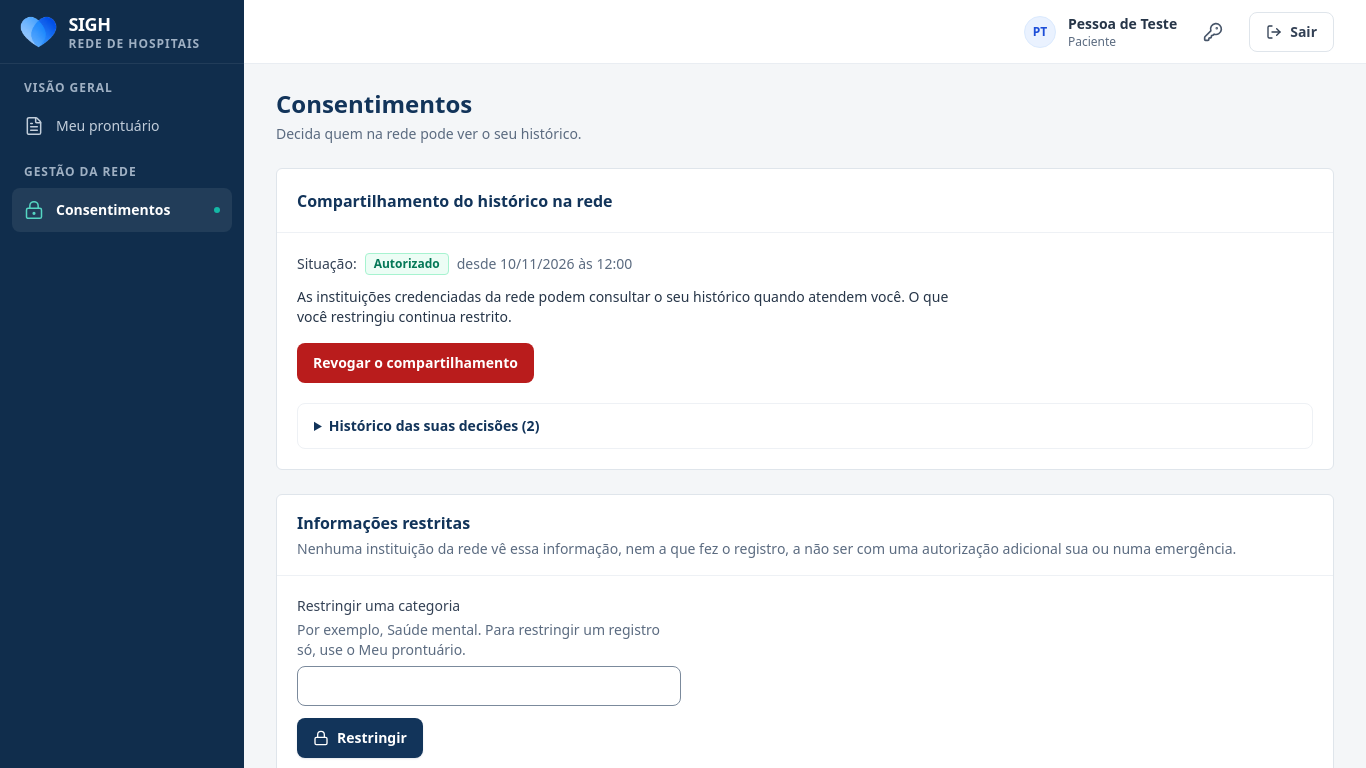
it: FE-05: autorização adicional depende do compartilhamento na rede › revogar o compartilhamento faz o aviso aparecer na hora, sem recarregar a página
Expected: the heading "Consentimentos" is shown, [276,87,472,120]
Click the button "Revogar o compartilhamento" at (416, 363), box [297,343,534,383]
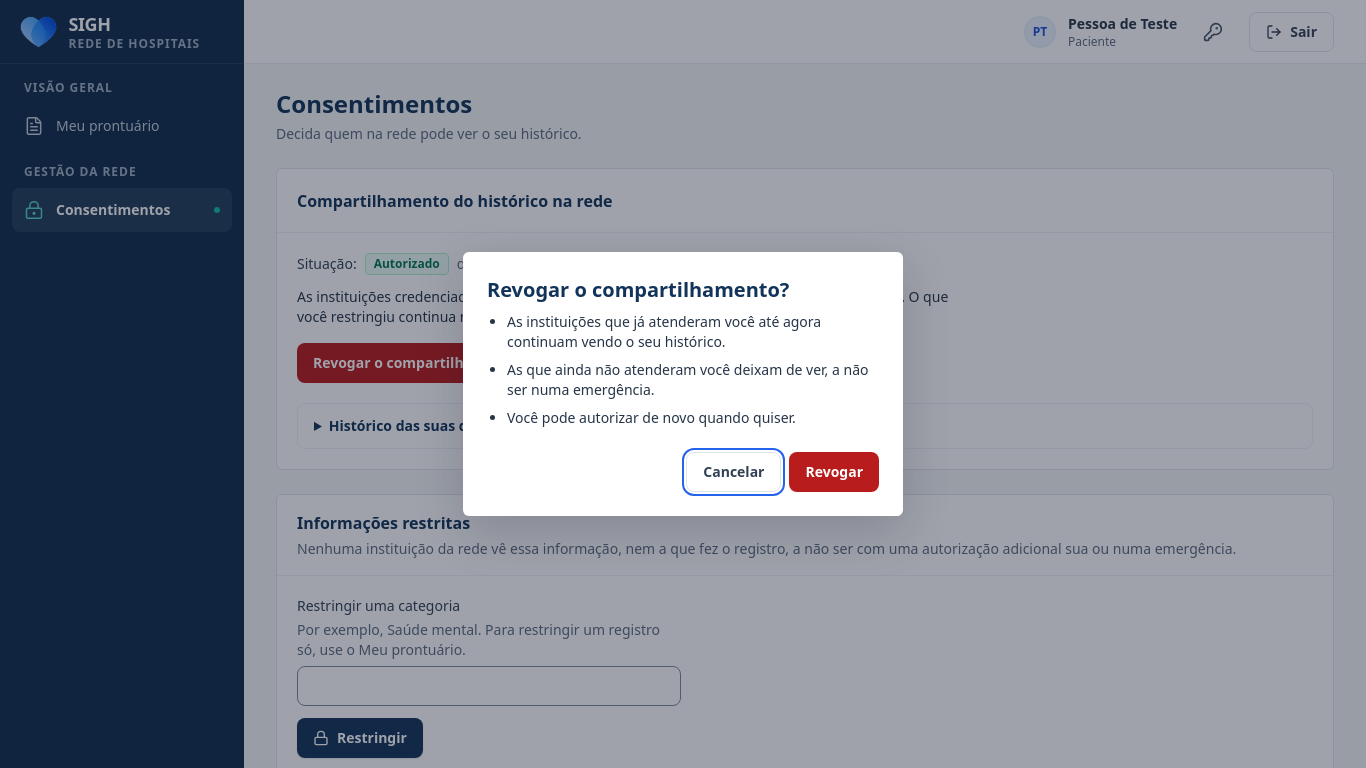
Click the button "Revogar" at (834, 472), box [790,452,879,492]
(page scrolled)
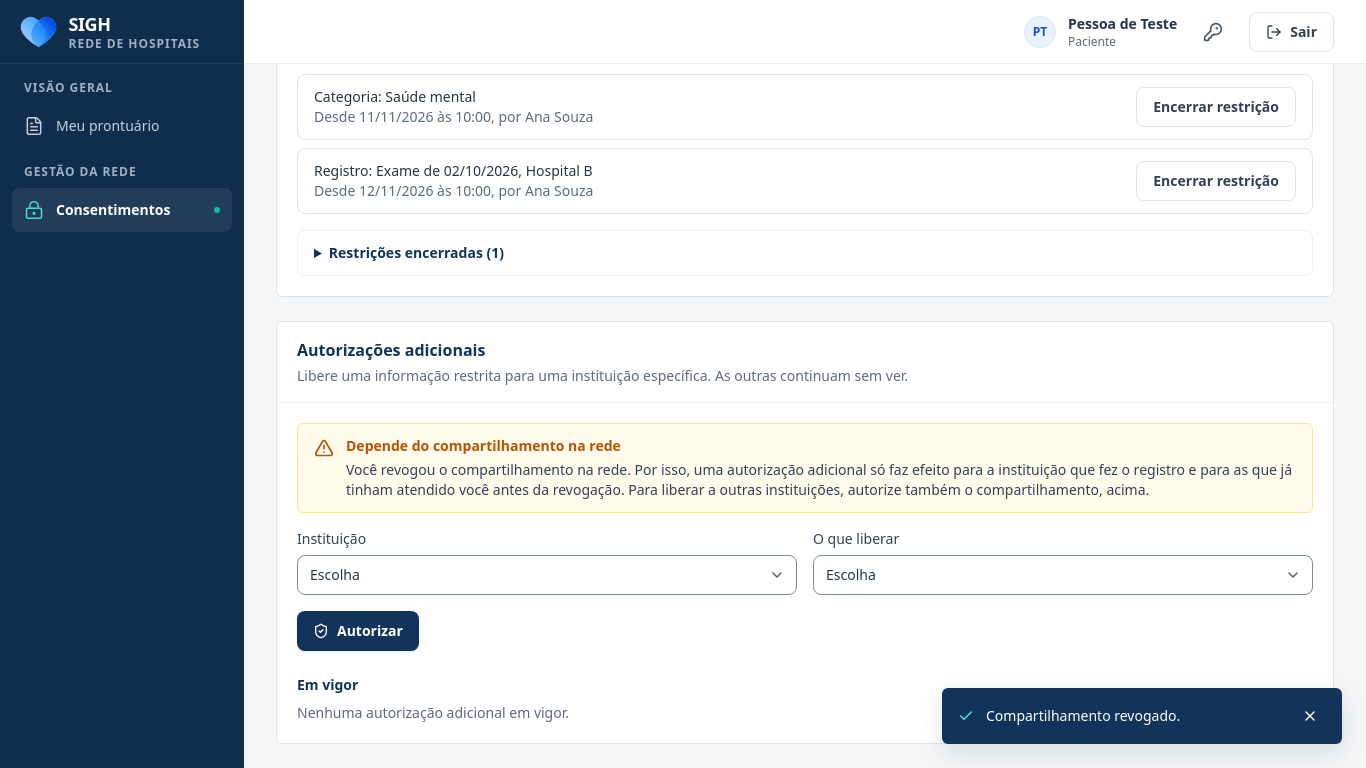
Expected: the text "Depende do compartilhamento na rede" is shown, [346,436,621,455]
